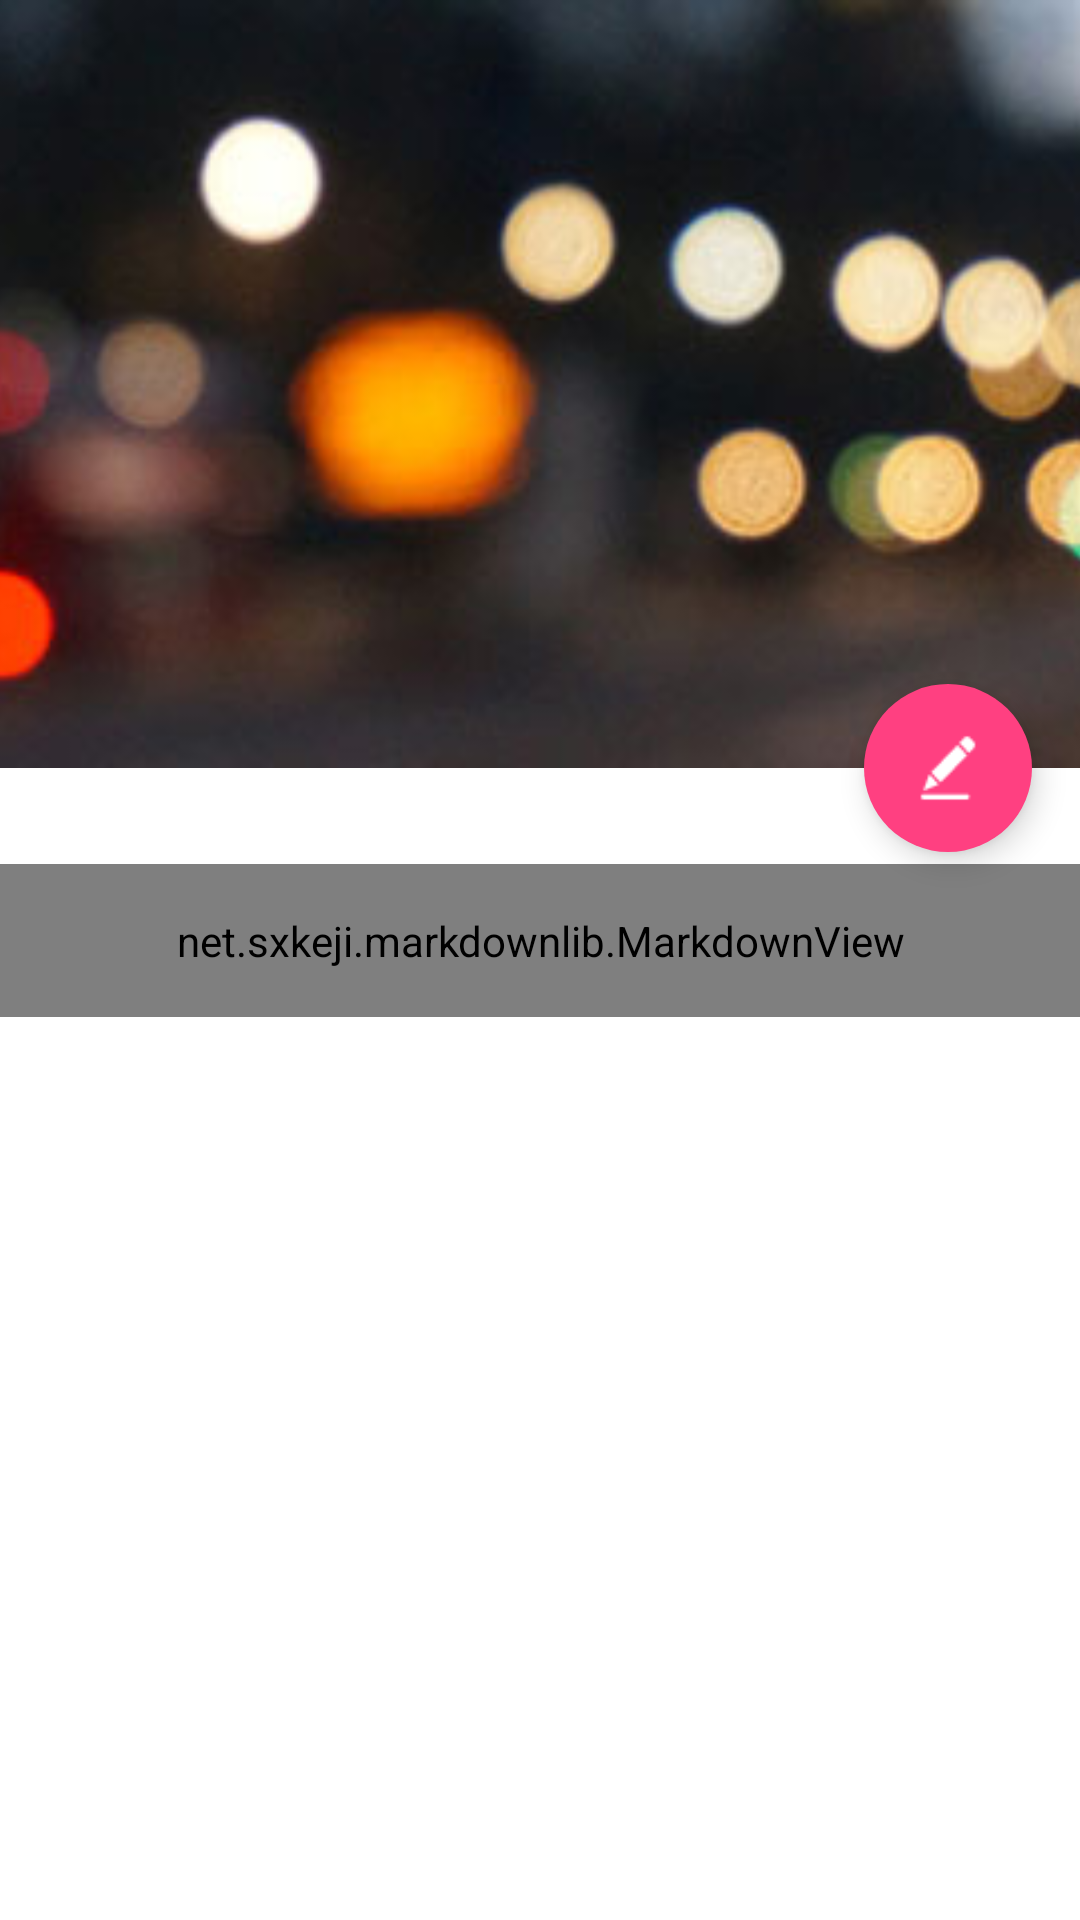

Point at icon controls on the screen. Image size 1080w x 1920h, points as (x=x, y=y).
edit: (x=948, y=768)
